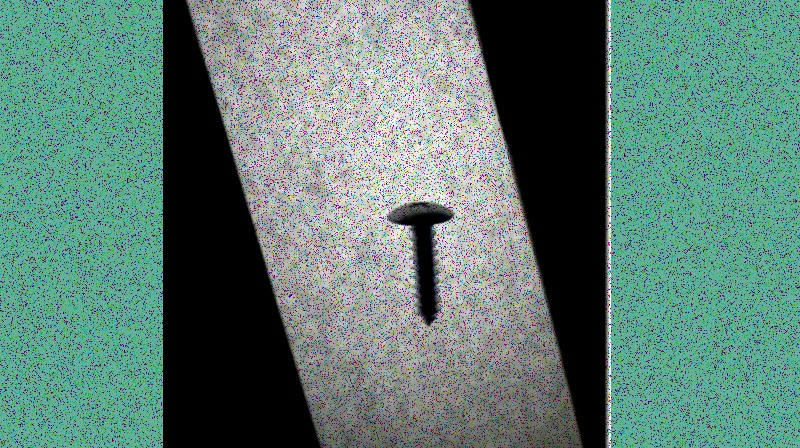S003: (384, 197, 457, 330)
